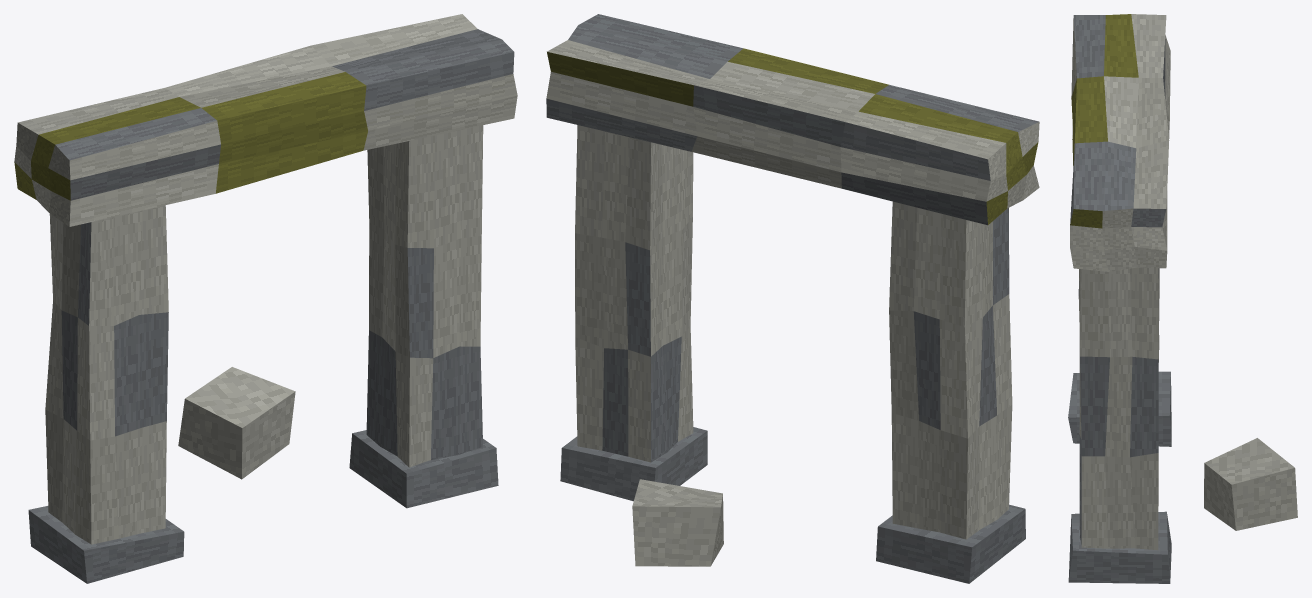
File: ruins_arch.glb
3 renders of one model, left to right at view 1: azimuth 30°, elevation 25°; view 2: azimuth 150°, elevation 25°; view 3: azimuth 270°, elevation 25°, orthographic. The views are drawn at different scales.
Visible parts, largest first — view 1: ruins_arch; view 2: ruins_arch; view 3: ruins_arch.
Part boxes in pixels (bbox=[...]): ruins_arch: bbox=[14, 14, 517, 583]; ruins_arch: bbox=[546, 14, 1039, 583]; ruins_arch: bbox=[1068, 14, 1297, 583].
Size of the model in its own units: 4.27 by 3.94 by 2.1.
1 material, 1 textured.
